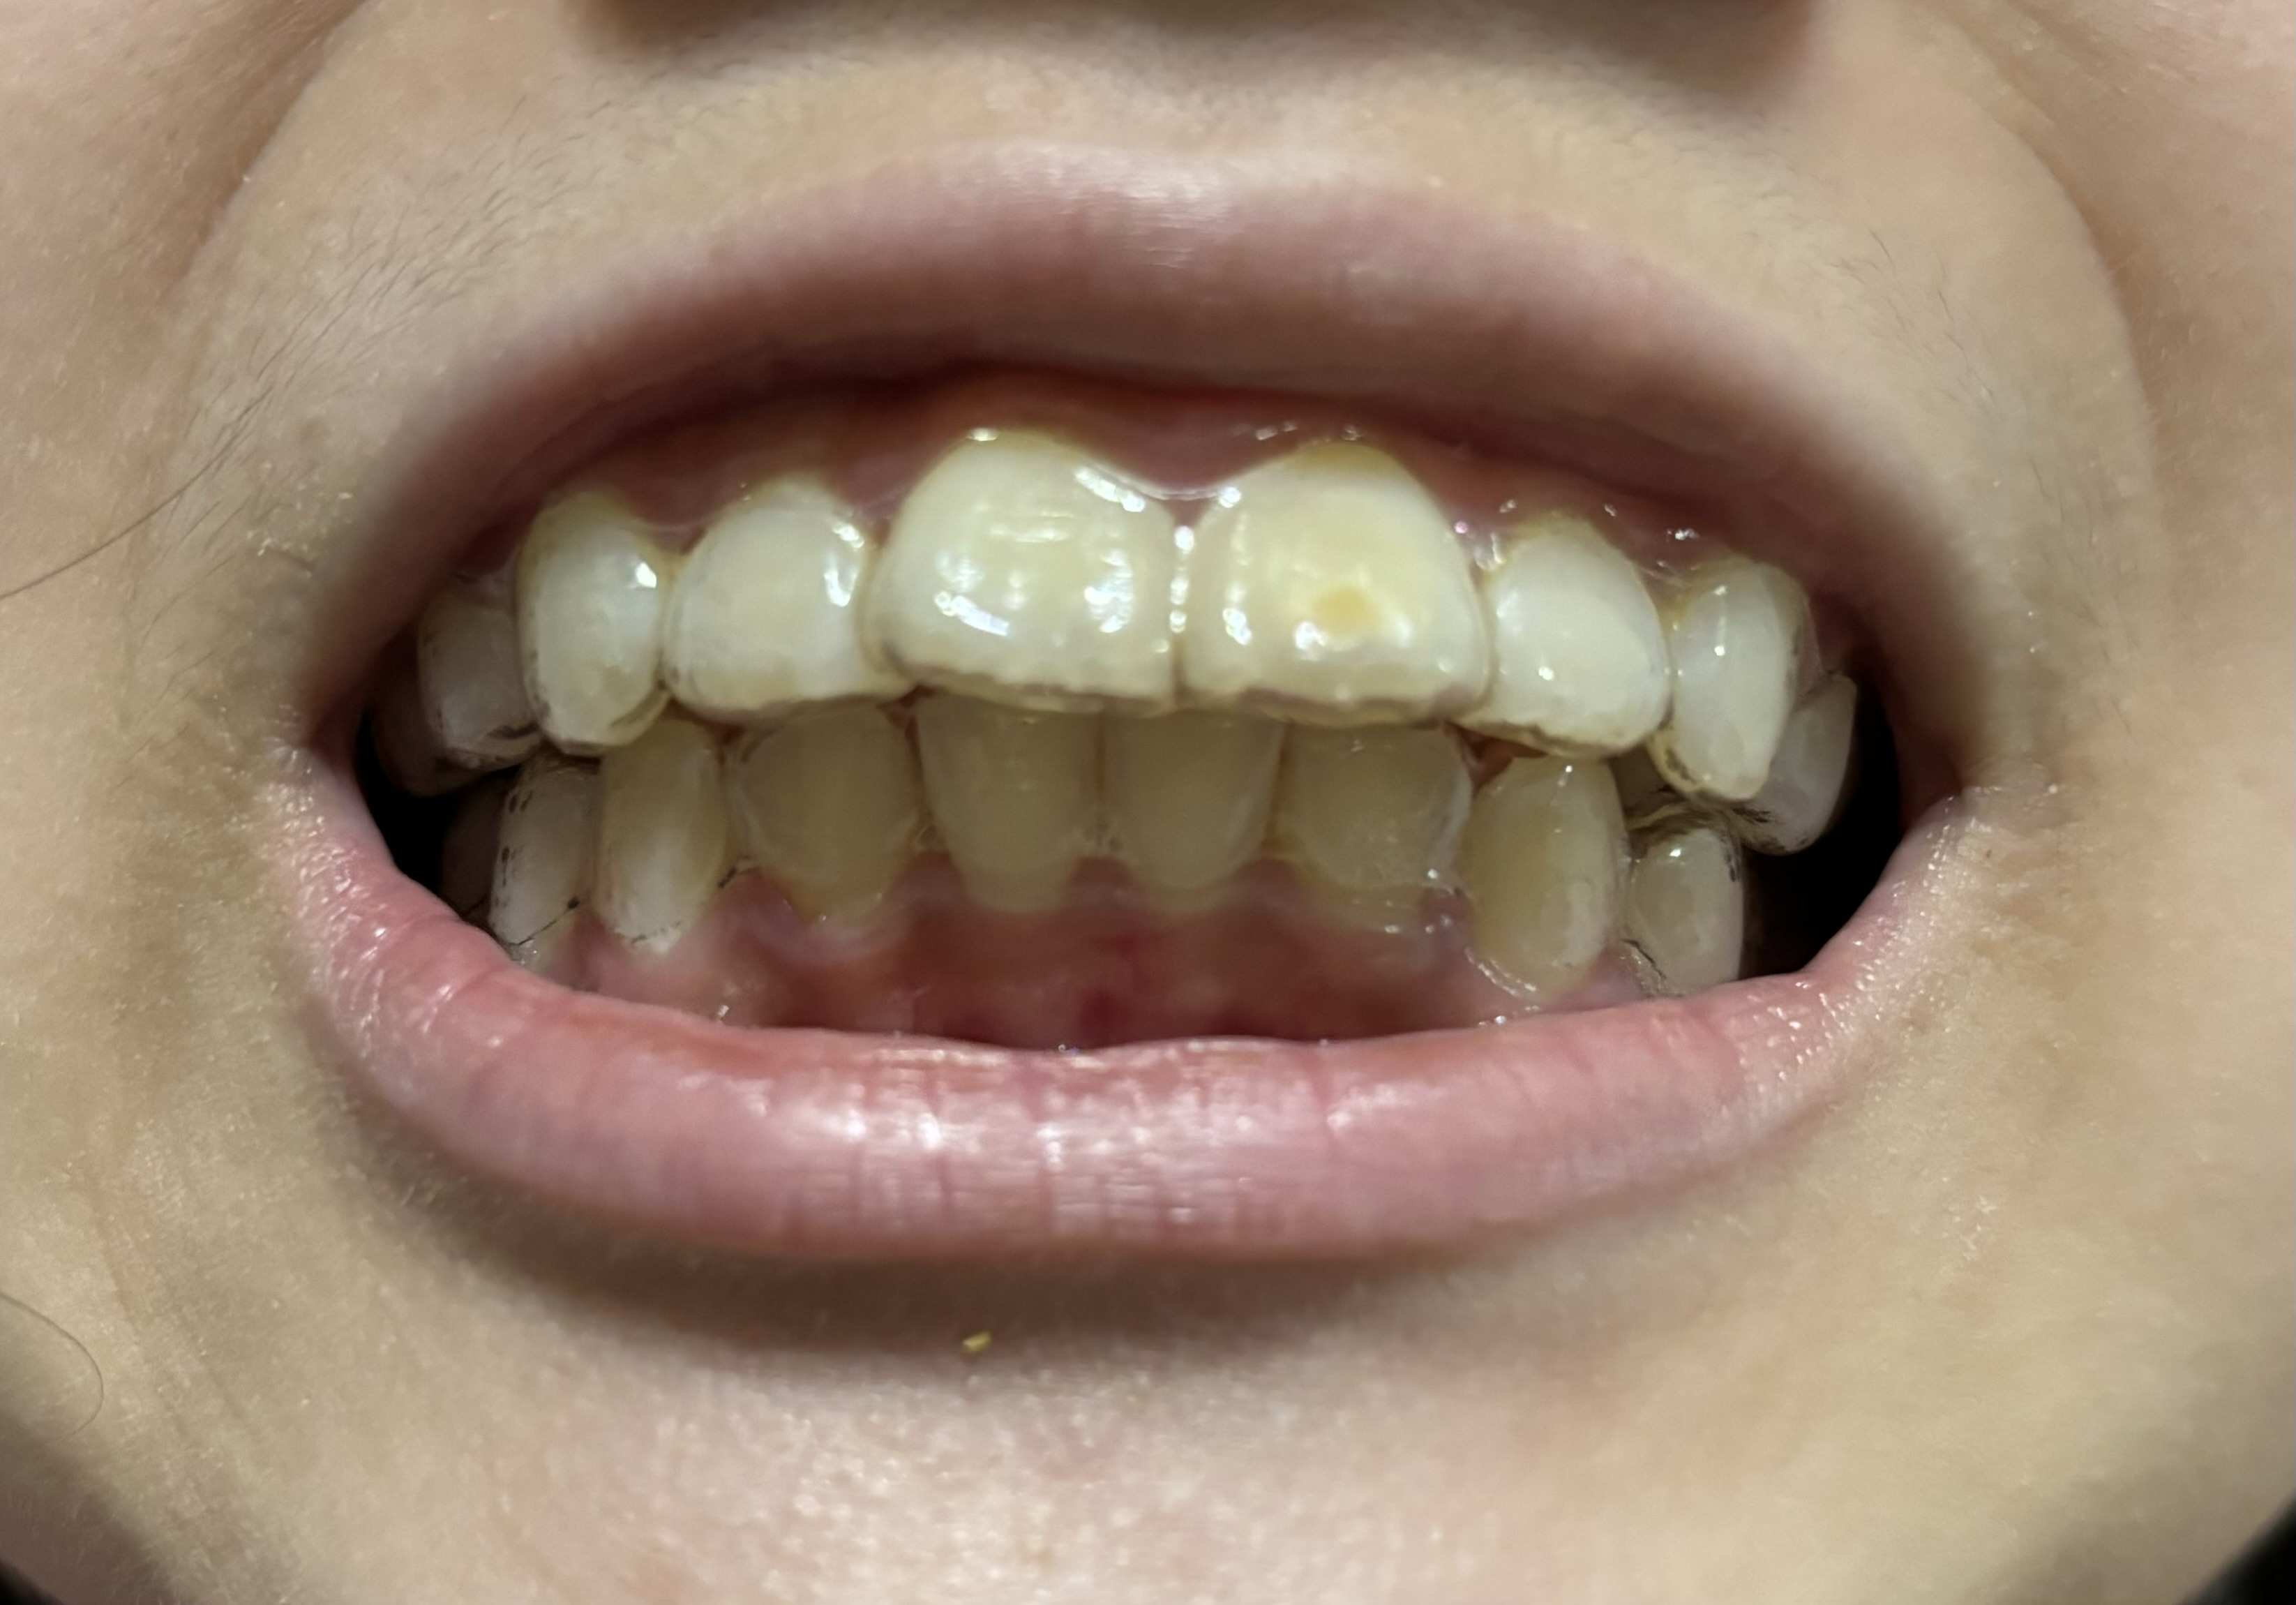teeth: (1185, 441, 1497, 701), (888, 426, 1181, 694), (668, 478, 885, 712), (736, 714, 925, 937), (515, 476, 665, 740), (1485, 515, 1659, 722), (1296, 727, 1481, 921), (921, 707, 1087, 909), (1471, 776, 1624, 989), (597, 719, 729, 958), (1104, 727, 1277, 890), (1668, 565, 1785, 801), (408, 591, 539, 759), (492, 766, 586, 961), (1638, 822, 1748, 984), (1753, 687, 1855, 841)
